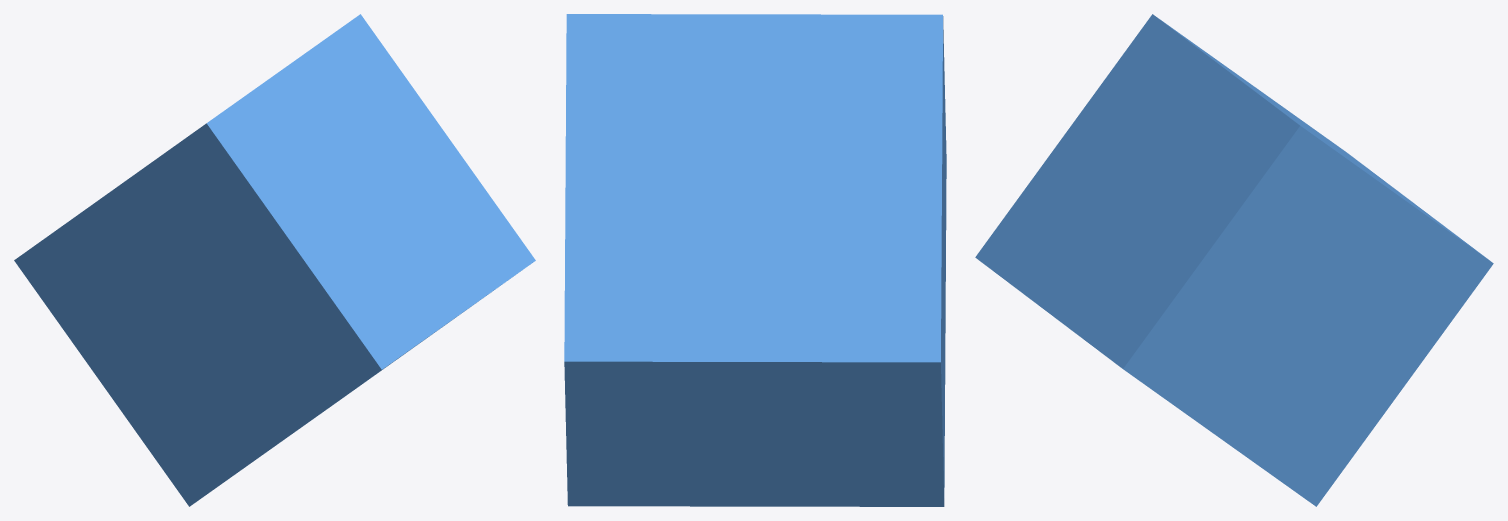
The model's file is cube_triangles.dae.
The picture shows the model from 3 angles, left to right: view 1: azimuth 30°, elevation 25°; view 2: azimuth 150°, elevation 25°; view 3: azimuth 270°, elevation 25°; orthographic projection. The views are drawn at different scales.
Parts seen in each view (by area): view 1: Box; view 2: Box; view 3: Box.
Part boxes in pixels (left/top/right/bottom): Box: left=14, top=14, right=535, bottom=506; Box: left=564, top=14, right=946, bottom=506; Box: left=975, top=14, right=1493, bottom=506.
Size of the model in its own units: 156 by 172 by 142.
